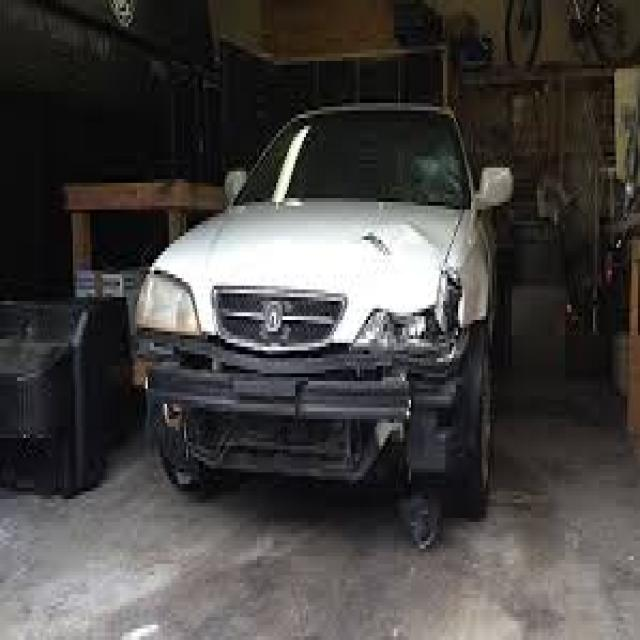moderate: (110, 308, 490, 520)
